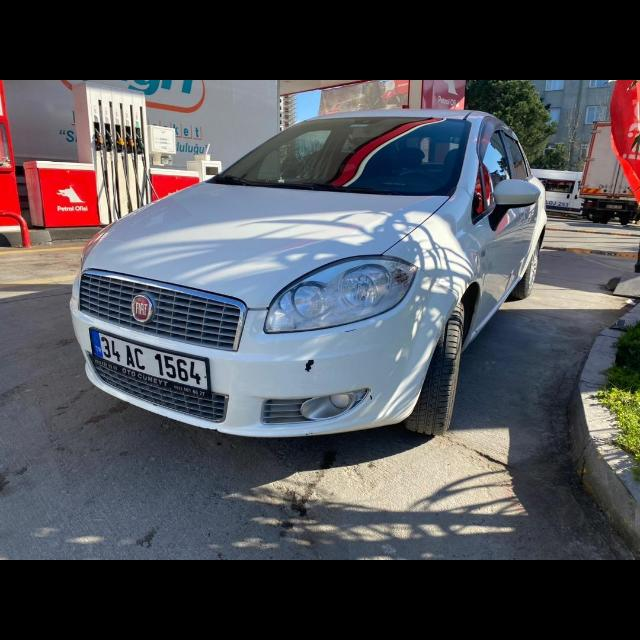Plaka: (94, 328, 210, 389)
